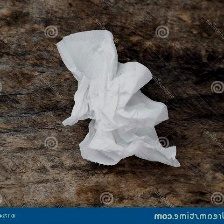tissue: (51, 25, 184, 170)
